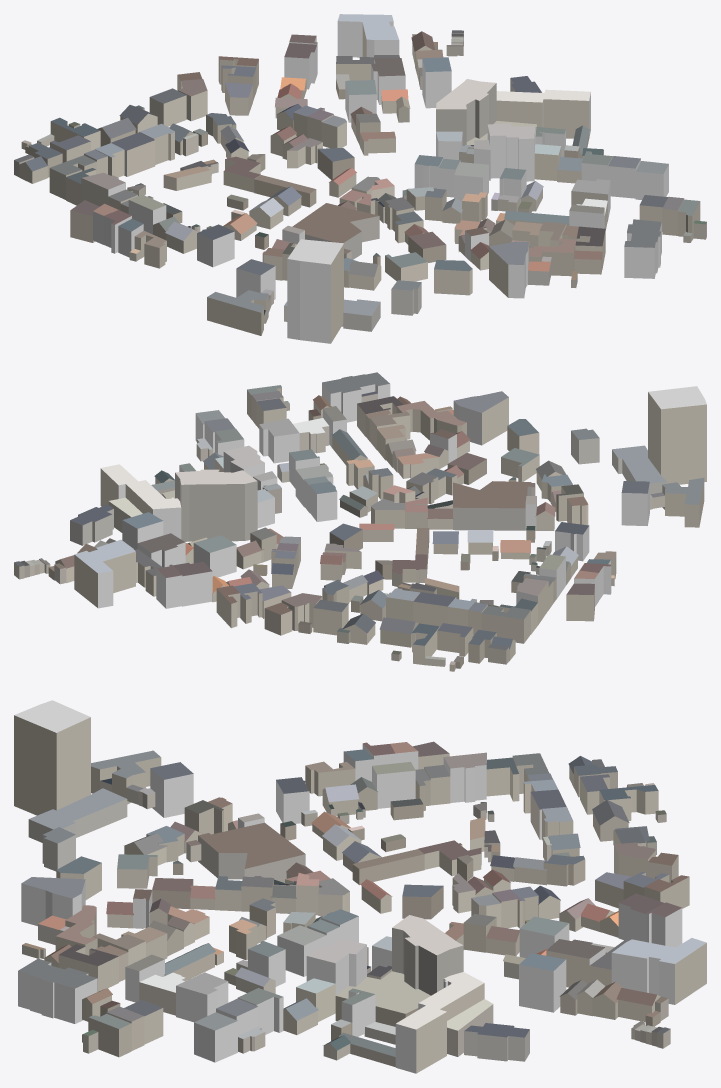
3 views of the same model, one above another, from view 1: azimuth 30°, elevation 25°; view 2: azimuth 150°, elevation 25°; view 3: azimuth 270°, elevation 25° (orthographic). The views are drawn at different scales.
Parts seen in each view (by area): view 1: tuile; view 2: tuile; view 3: tuile.
Boxes of the visible parts, left/top/right/bottom form: tuile: left=14, top=14, right=706, bottom=343; tuile: left=14, top=372, right=706, bottom=671; tuile: left=14, top=700, right=706, bottom=1073.
Bounding box in the file's own units: 268 × 50.07 × 274.
